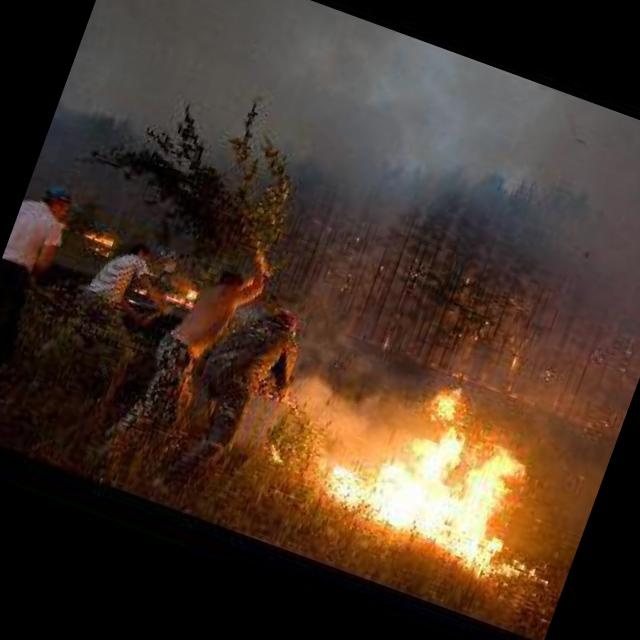fire: (259, 332, 556, 585)
